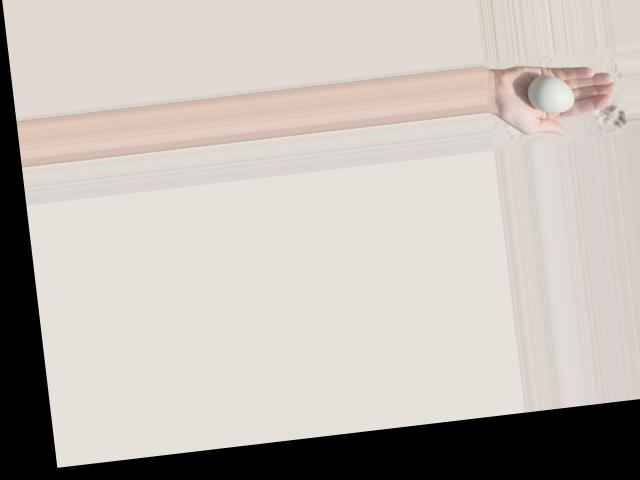egg: (527, 72, 575, 115)
